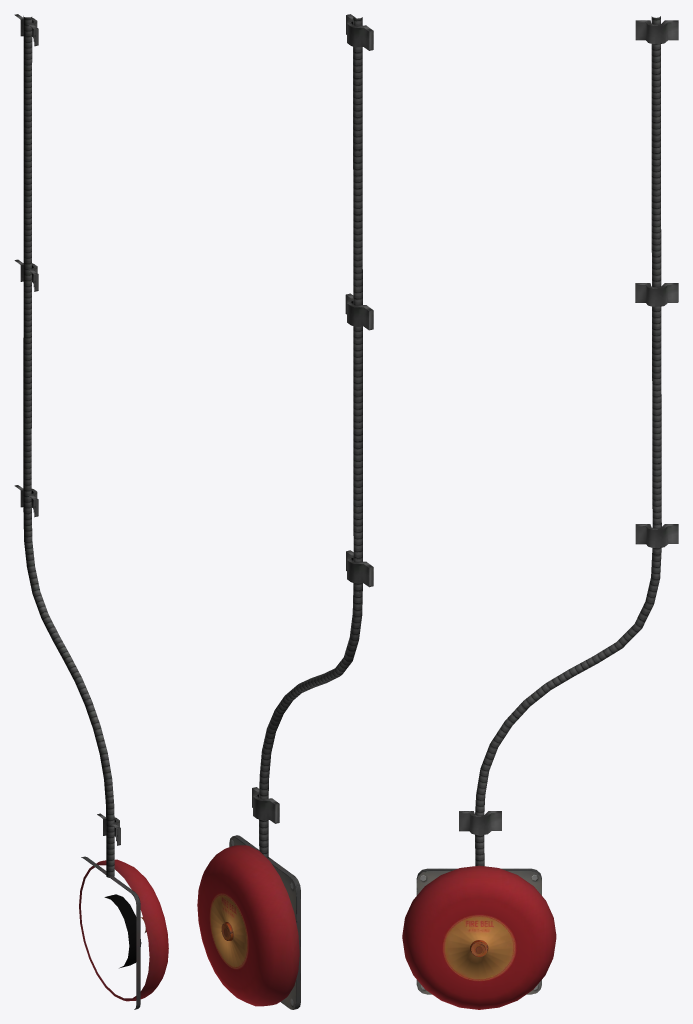
3 renders of one model, left to right at view 1: azimuth 30°, elevation 25°; view 2: azimuth 210°, elevation 25°; view 3: azimuth 270°, elevation 25°, orthographic. The views are drawn at different scales.
Visible parts, largest first — view 1: body0_model0_lod0_mesh0; view 2: body0_model0_lod0_mesh0; view 3: body0_model0_lod0_mesh0.
Boxes of the visible parts, x1,y1,x2,y2 form: body0_model0_lod0_mesh0: (14, 14, 168, 1009); body0_model0_lod0_mesh0: (197, 14, 373, 1009); body0_model0_lod0_mesh0: (402, 16, 678, 1009).
Bounding box in the file's own units: 7.74 × 185 × 46.94.
Materials: 1 (1 with a texture image).
